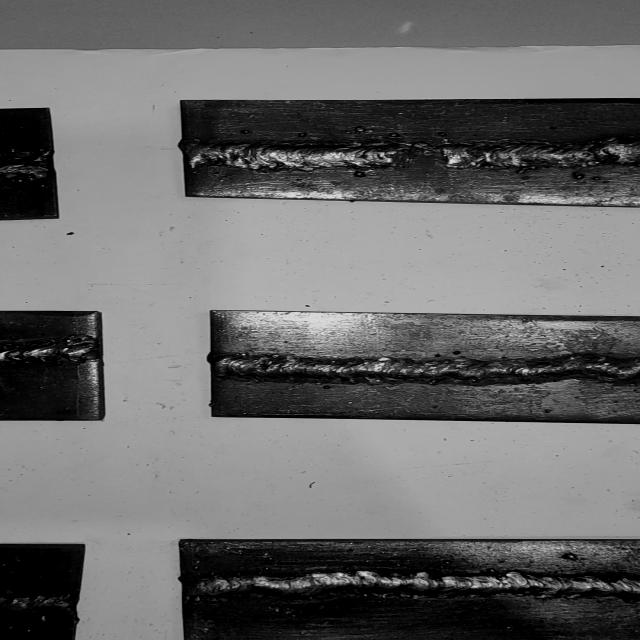Bad Weld: (184, 140, 640, 168)
Defect: (381, 134, 461, 174), (0, 147, 61, 188), (0, 593, 81, 615)
Good Weld: (188, 572, 640, 601), (215, 356, 640, 384), (0, 344, 103, 364)
